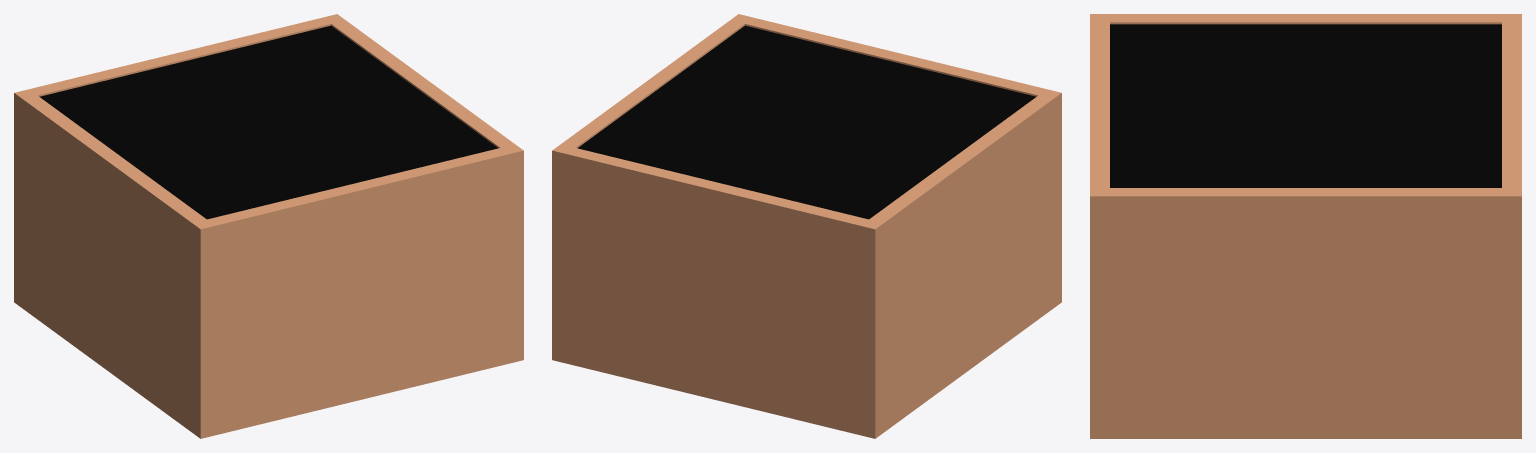
File: CardboardPlatform.fbx
3 views of the same model, side by side, from view 1: azimuth 30°, elevation 25°; view 2: azimuth 150°, elevation 25°; view 3: azimuth 270°, elevation 25° (orthographic). The views are drawn at different scales.
Parts seen in each view (by area): view 1: Cube.006; view 2: Cube.006; view 3: Cube.006.
Part boxes in pixels (bbox=[...]): Cube.006: bbox=[14, 14, 523, 438]; Cube.006: bbox=[552, 14, 1061, 438]; Cube.006: bbox=[1090, 14, 1521, 438].
Bounding box in the file's own units: 1654 × 1025 × 1654.
